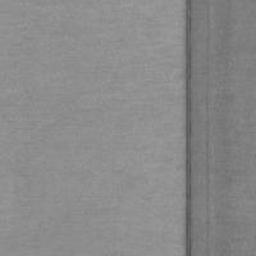Welding line: (186, 0, 191, 256)
